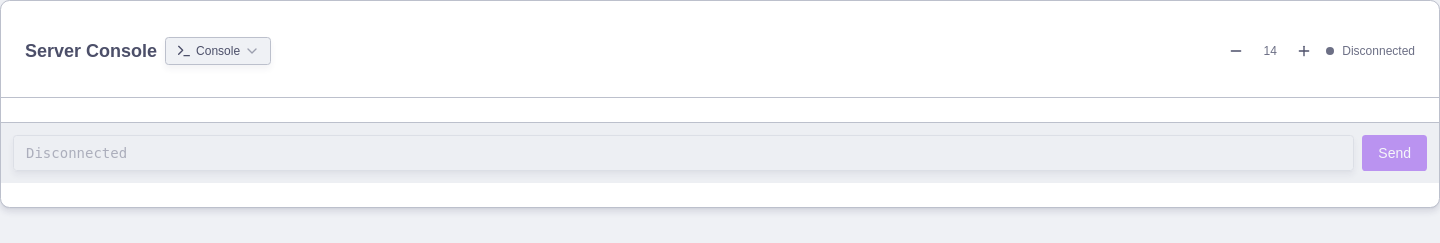
Test case: ConsolePanel › source selector dropdown › clicking log file switches to log file mode
# Open dropdown
Click the button with test id "source-selector".
click(218, 51)  # box [165,37,271,65]
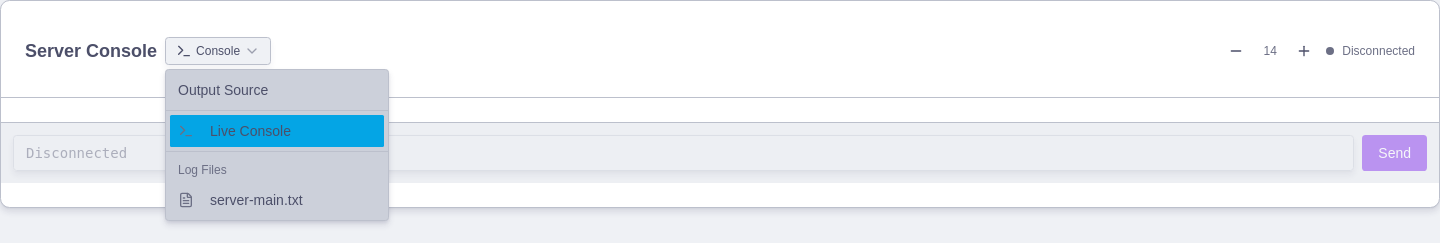
# Click on log file
Click the menu item "server-main.txt".
click(240, 200)  # box [178,192,303,208]
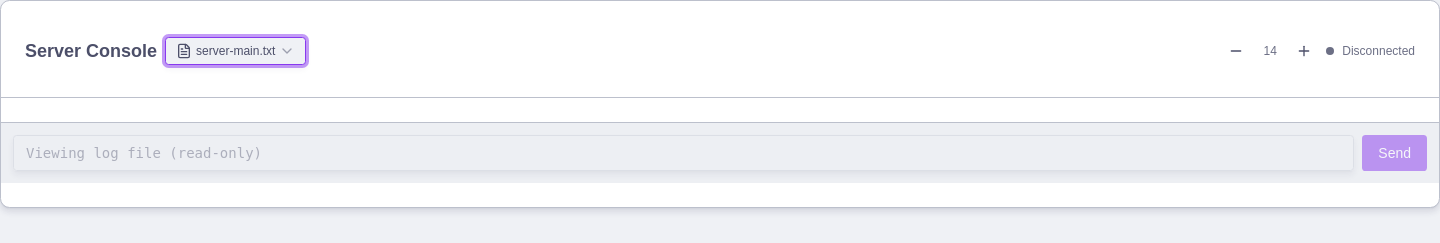
Expected: the button with test id "source-selector" reads "server-main.txt", [165,37,306,65]
